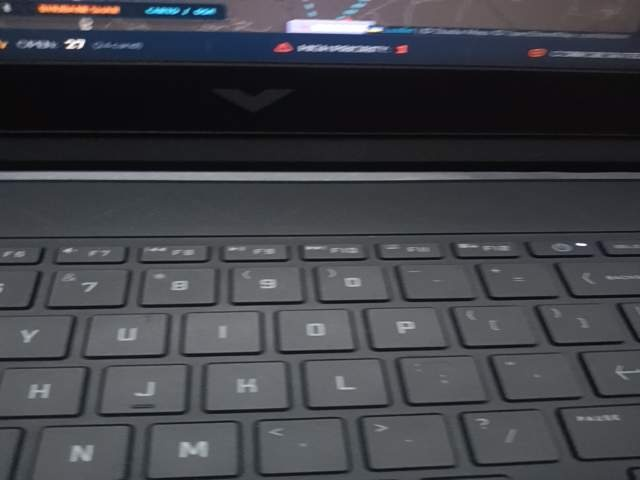pothole: (105, 108, 314, 280), (104, 403, 312, 480), (536, 403, 640, 480)
